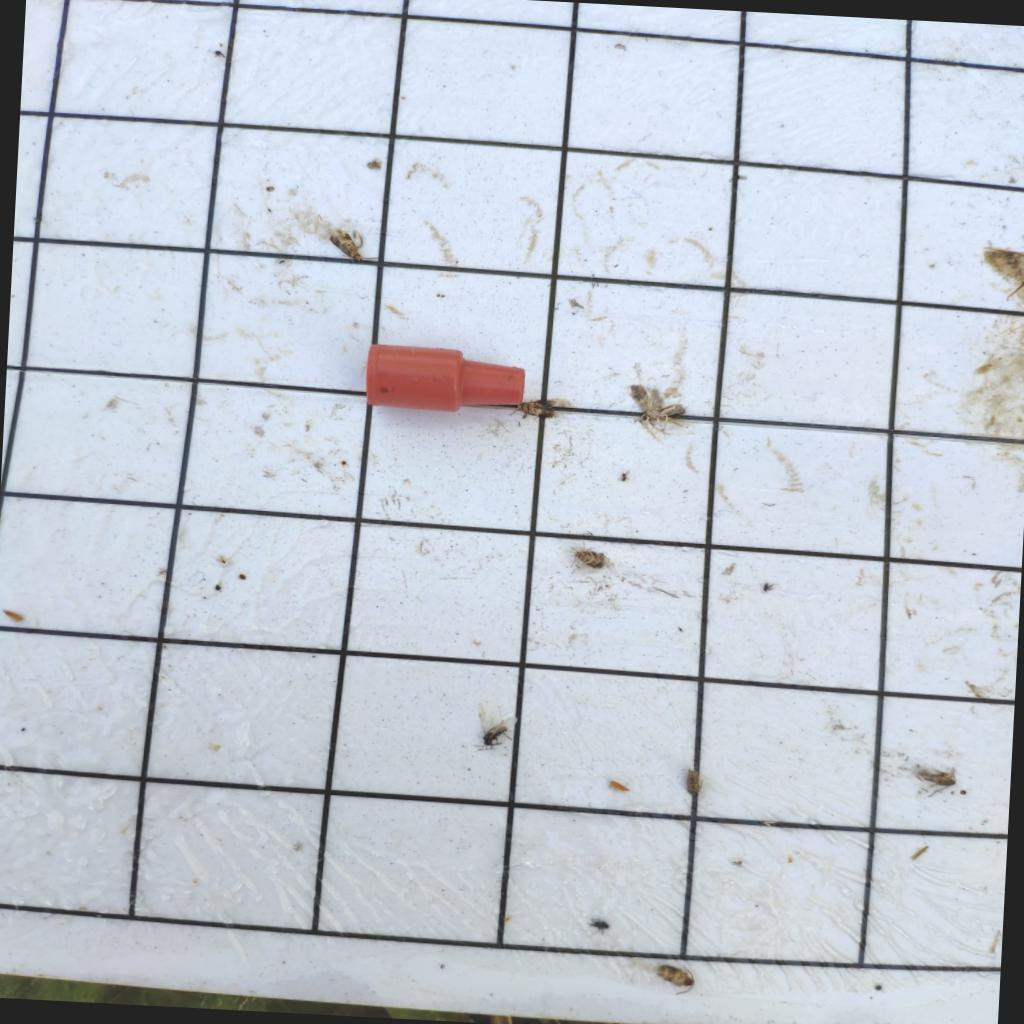grape_moth: (626, 384, 692, 444), (326, 226, 380, 264), (652, 961, 698, 996), (914, 763, 958, 799), (568, 539, 609, 573), (508, 396, 557, 420), (684, 766, 705, 796)
